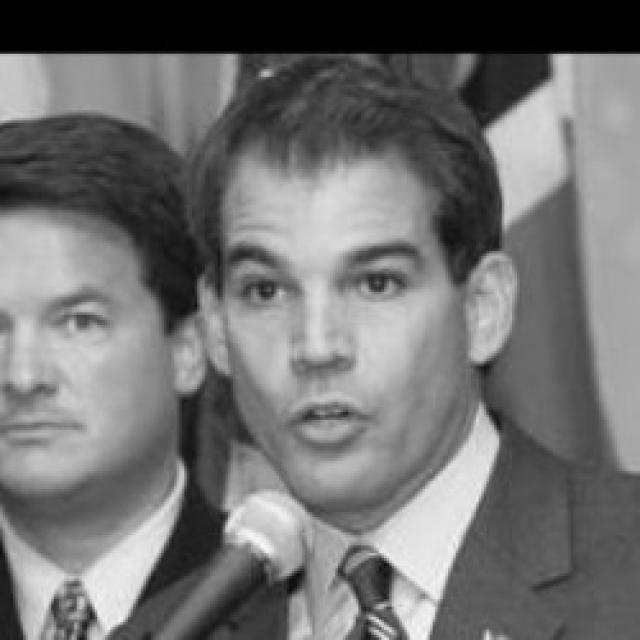real: (218, 146, 488, 508), (0, 152, 168, 494), (229, 253, 433, 325), (0, 307, 123, 353)
